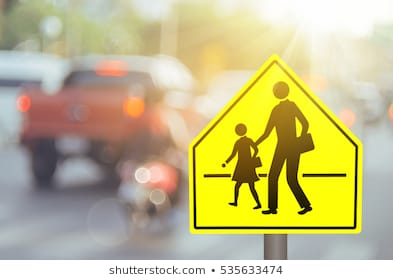slow: (187, 54, 364, 238)
